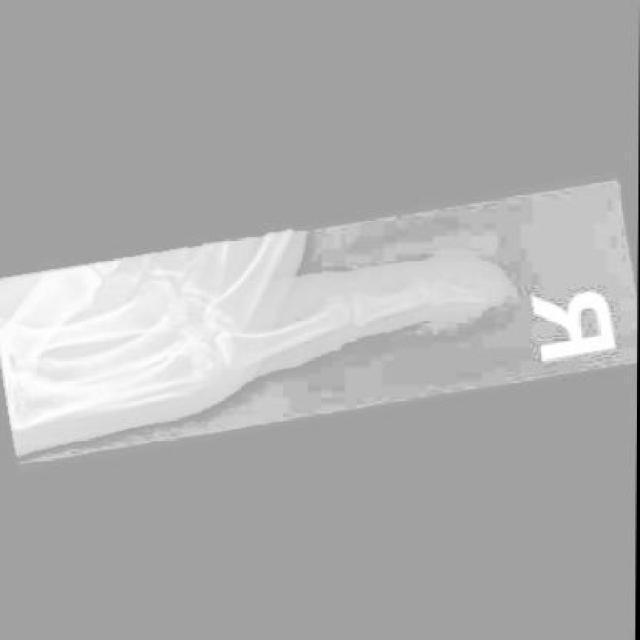Fracture: (456, 266, 504, 309)
